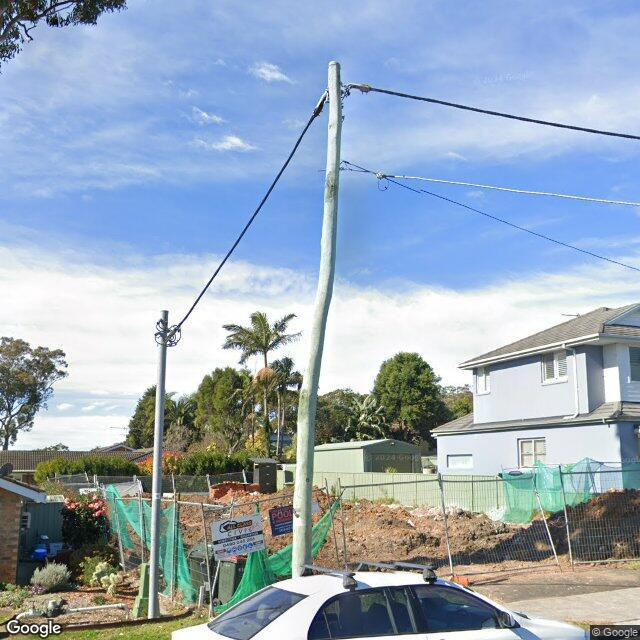steel-pole: (148, 311, 168, 618)
timber-pole: (288, 61, 342, 575)
